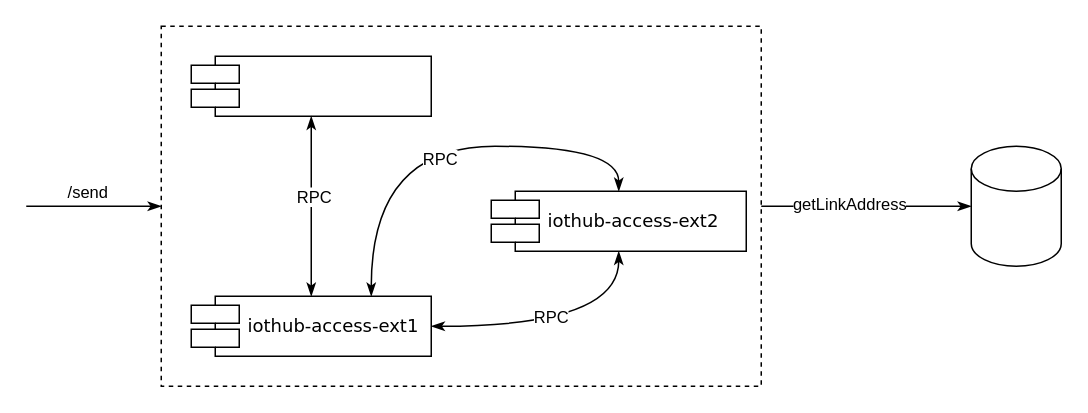
The diagram is 1088 pixels wide and 413 high, and some of its shapes have lost their labels. The centre of each missing label's shape, as x and y in pixels:
"iothub-access-ext0" goes at point 310,85.
"redis" goes at point 1015,205.
